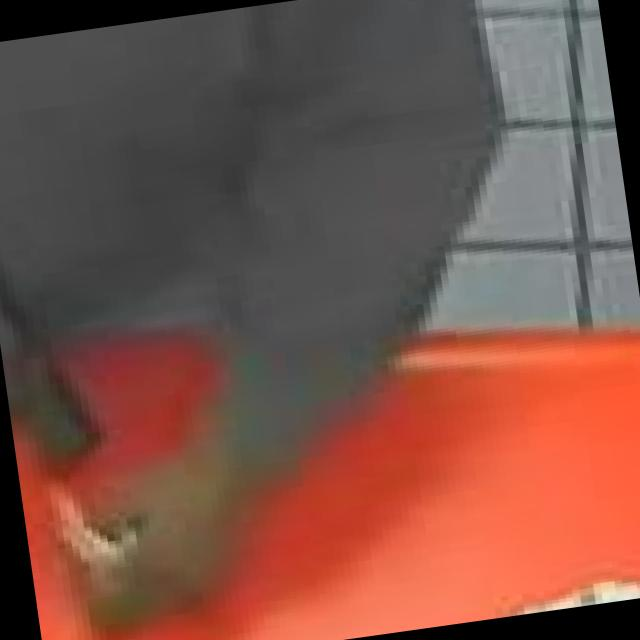Guns: (0, 203, 141, 484)
